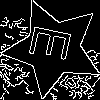E: (28, 23, 81, 65)
